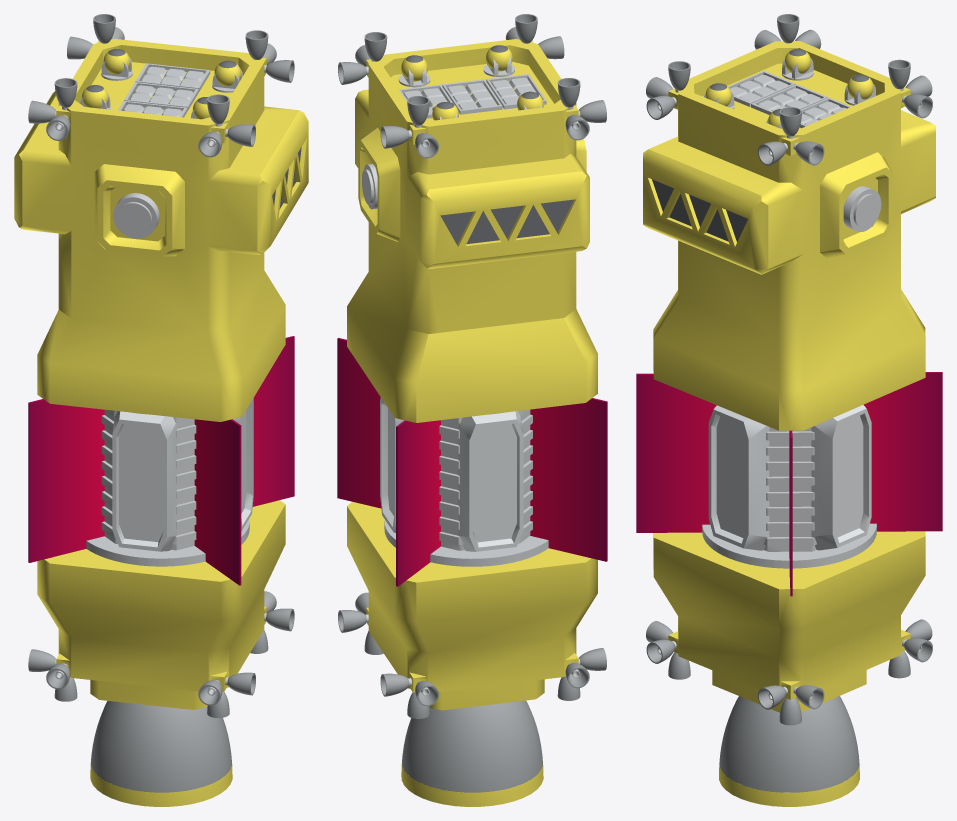
The model's file is astroferros_light_onsite_collection_craft.glb.
The picture shows the model from 3 angles, left to right: view 1: azimuth 30°, elevation 25°; view 2: azimuth 150°, elevation 25°; view 3: azimuth 270°, elevation 25°; orthographic projection.
Visible parts, largest first — view 1: Object_25, Object_27, Object_5, Object_11, Object_28, Object_29, Object_30, Object_31, Object_32, Object_33, Object_34, Object_7 (+24 smaller); view 2: Object_25, Object_27, Object_5, Object_11, Object_26, Object_28, Object_34, Object_2, Object_30, Object_29, Object_31, Object_32 (+24 smaller); view 3: Object_25, Object_27, Object_11, Object_5, Object_26, Object_28, Object_31, Object_30, Object_34, Object_35, Object_38, Object_4 (+19 smaller).
Part boxes in pixels (<box>): Object_25: <box>14,38,308,806</box>; Object_27: <box>28,14,294,792</box>; Object_5: <box>55,57,266,695</box>; Object_11: <box>112,398,253,551</box>; Object_28: <box>28,336,294,585</box>; Object_29: <box>31,336,292,584</box>; Object_30: <box>33,337,289,583</box>; Object_31: <box>35,337,287,582</box>; Object_32: <box>38,345,285,581</box>; Object_33: <box>40,349,282,580</box>; Object_34: <box>42,353,280,579</box>; Object_7: <box>64,389,259,570</box>; Object_25: <box>347,39,597,806</box>; Object_27: <box>338,14,606,792</box>; Object_5: <box>362,57,580,696</box>; Object_11: <box>380,397,523,551</box>; Object_26: <box>406,45,573,244</box>; Object_28: <box>337,338,607,586</box>; Object_34: <box>351,354,592,580</box>; Object_2: <box>363,372,580,574</box>; Object_30: <box>342,339,602,584</box>; Object_29: <box>339,338,604,585</box>; Object_31: <box>344,339,599,583</box>; Object_32: <box>347,347,597,582</box>; Object_25: <box>643,41,935,806</box>; Object_27: <box>646,14,932,792</box>; Object_11: <box>708,405,871,550</box>; Object_5: <box>657,58,921,700</box>; Object_26: <box>652,49,868,242</box>; Object_28: <box>636,372,942,596</box>; Object_31: <box>644,372,934,532</box>; Object_30: <box>641,372,937,532</box>; Object_34: <box>652,372,926,532</box>; Object_35: <box>655,378,923,587</box>; Object_38: <box>663,382,915,532</box>; Object_4: <box>671,386,907,532</box>.
Size of the model in its own units: 35.06 by 89.9 by 35.06.
